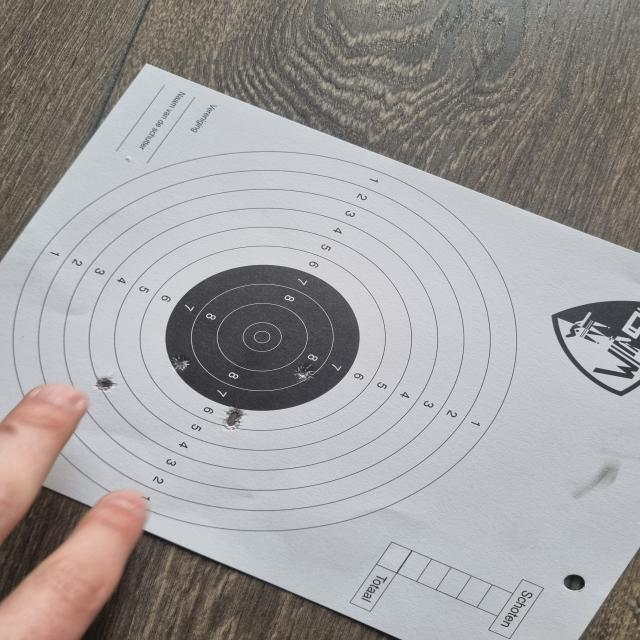5: (93, 376, 117, 394)
7: (221, 418, 243, 431)
8: (170, 356, 192, 373), (225, 407, 245, 418)
9: (292, 364, 316, 384)
Black Contour: (164, 264, 362, 412)
Target: (9, 148, 520, 530)
